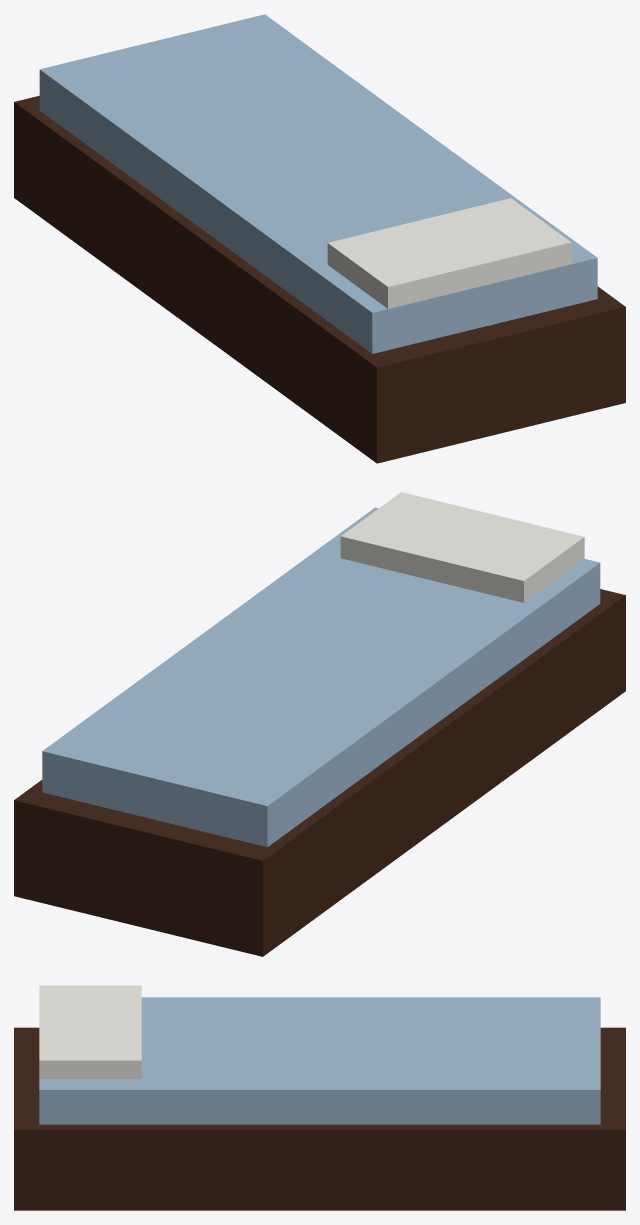
Rendered from cama_crianca.glb.
The picture shows the model from 3 angles, top to bottom: view 1: azimuth 30°, elevation 25°; view 2: azimuth 150°, elevation 25°; view 3: azimuth 270°, elevation 25°; orthographic projection. The views are drawn at different scales.
Parts seen in each view (by area): view 1: Malha_0; view 2: Malha_0; view 3: Malha_0.
Part boxes in pixels (<box>): Malha_0: <box>14,14,625,463</box>; Malha_0: <box>14,492,625,956</box>; Malha_0: <box>14,985,625,1210</box>.
Size of the model in its own units: 0.95 by 0.58 by 2.4.
